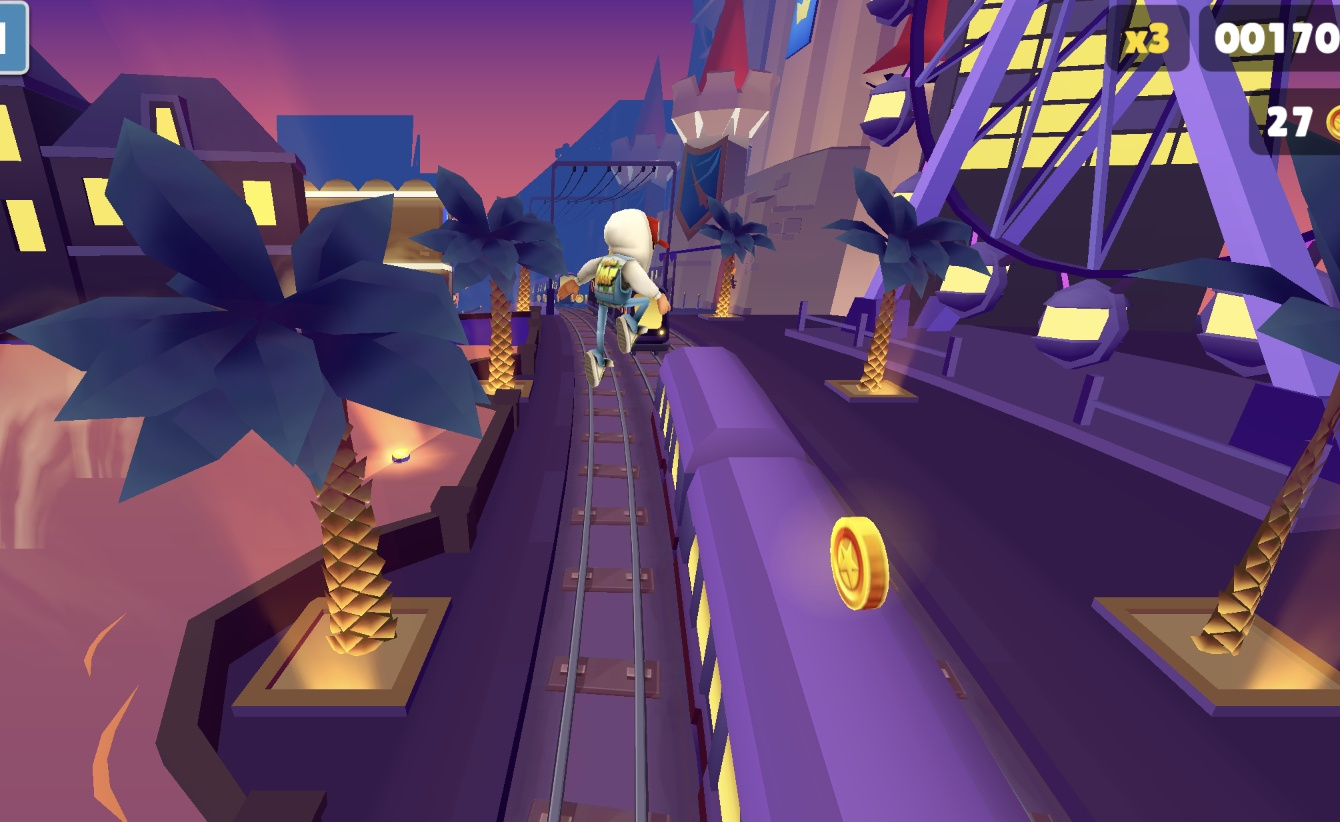train: (650, 337, 1098, 822), (632, 273, 681, 344)
